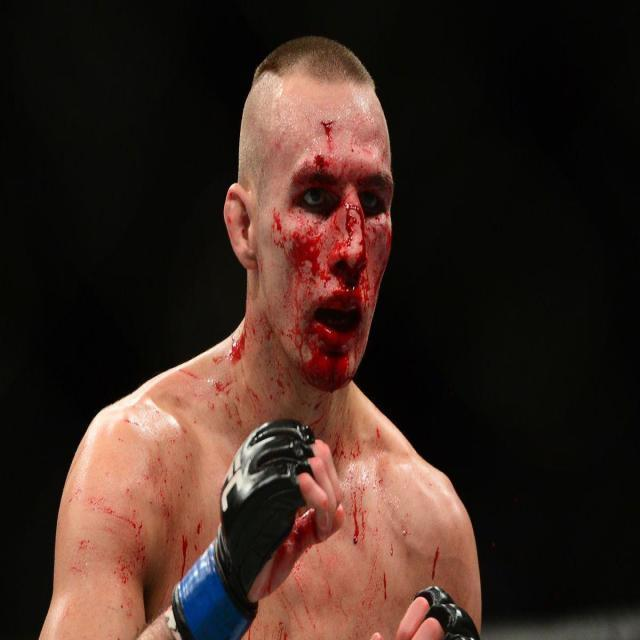flood: (262, 126, 392, 374)
